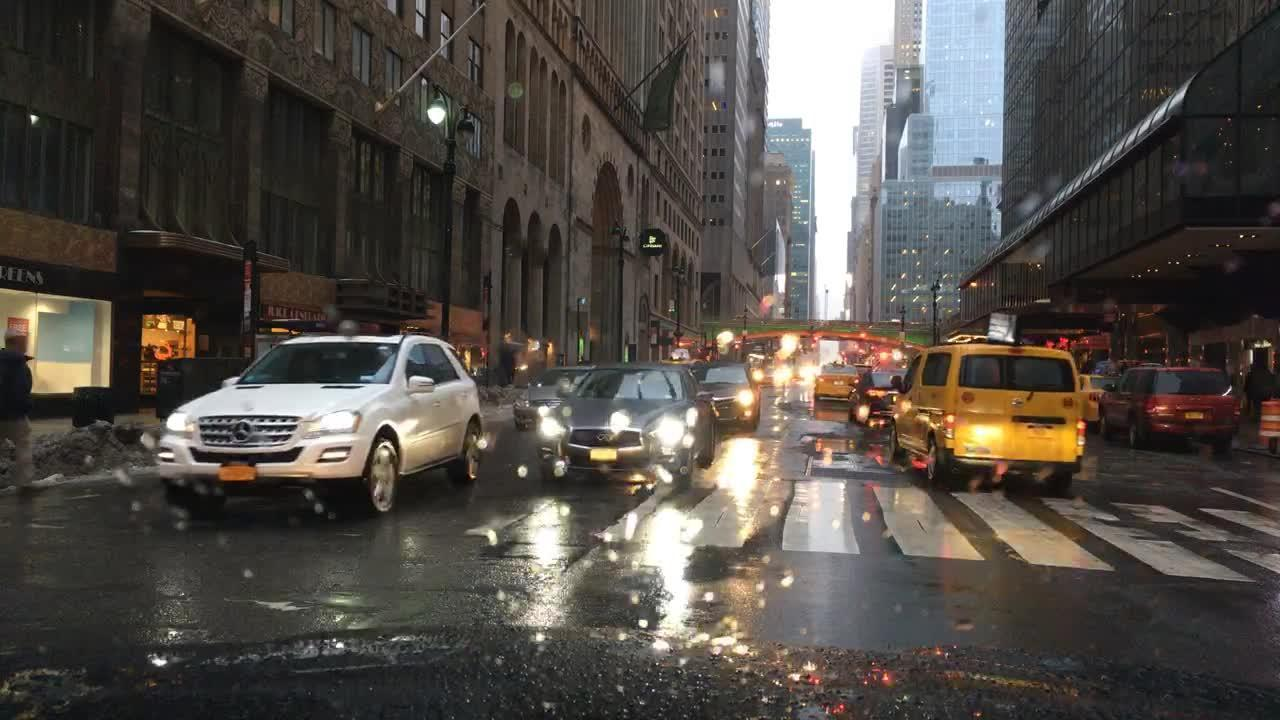Infiniti: (597, 431, 611, 445)
Mercedes: (230, 419, 256, 446)
